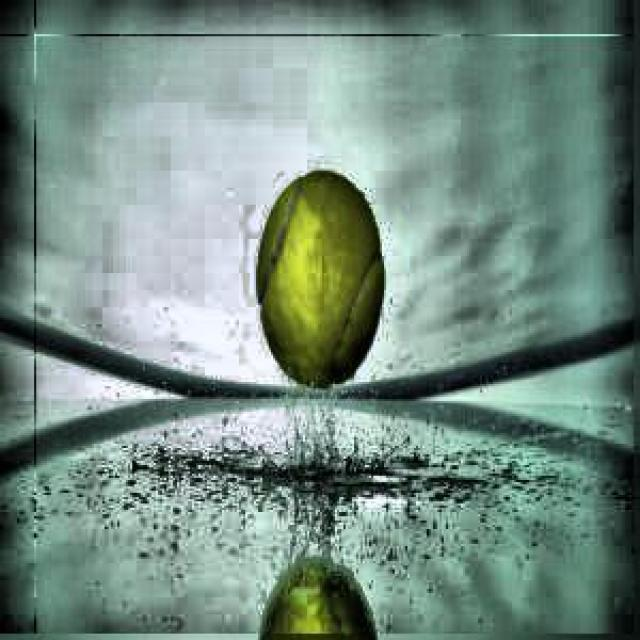tennis-ball: (256, 167, 384, 391), (260, 559, 378, 638)
